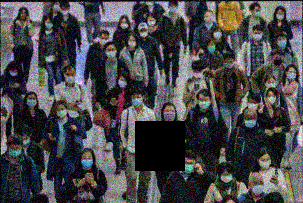with_mask: (249, 180, 263, 196), (180, 159, 194, 175), (78, 154, 92, 170), (5, 145, 22, 157), (242, 115, 256, 129), (256, 156, 271, 169), (218, 171, 232, 184), (162, 108, 174, 123), (129, 94, 141, 108), (196, 97, 209, 109), (104, 46, 116, 59), (54, 106, 66, 119), (24, 95, 36, 108), (63, 71, 74, 85), (285, 68, 296, 81), (17, 134, 28, 147), (271, 55, 283, 66), (246, 100, 257, 112), (115, 77, 126, 89), (265, 93, 275, 106), (275, 37, 286, 48), (263, 80, 275, 90), (6, 68, 18, 78), (251, 31, 262, 41), (211, 29, 221, 40), (191, 69, 201, 80), (205, 43, 215, 53), (223, 59, 233, 69), (137, 29, 147, 39), (118, 20, 128, 30), (126, 38, 136, 48), (97, 36, 107, 46), (42, 21, 53, 30), (203, 13, 211, 25), (167, 3, 176, 13), (58, 7, 68, 16), (252, 8, 261, 17), (275, 10, 283, 20), (51, 3, 59, 13), (145, 18, 154, 26)
without_mask: (17, 9, 26, 20)
